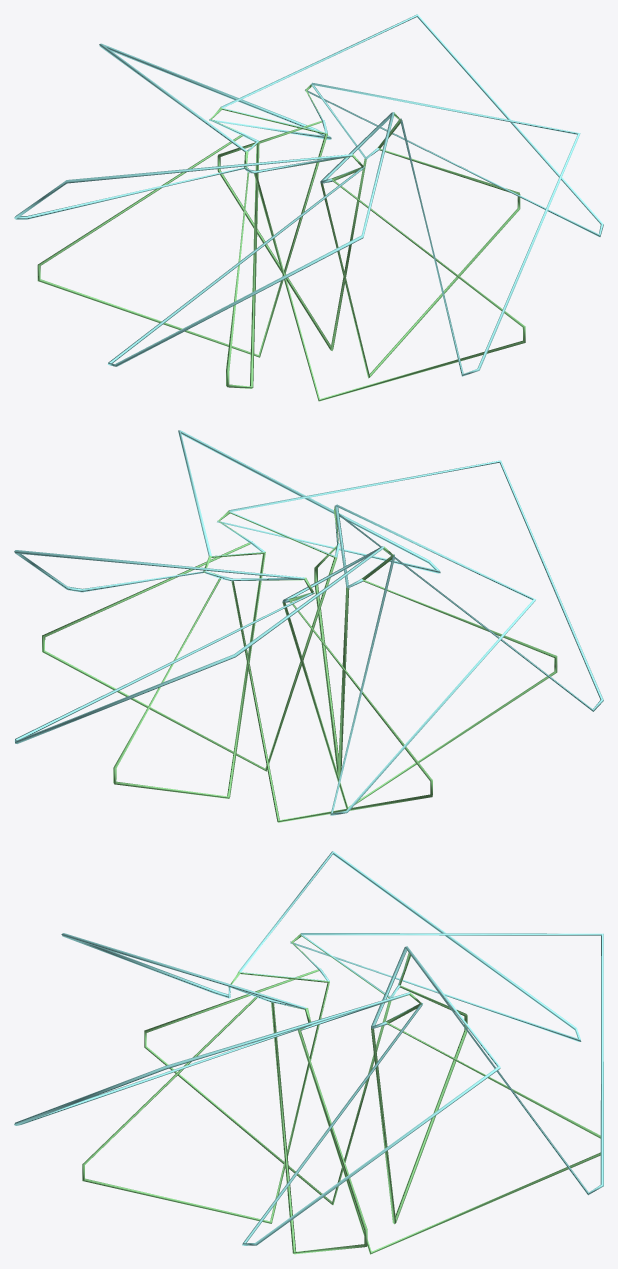
The model's file is MapF1.glb.
3 views of the same model, one above another, from view 1: azimuth 30°, elevation 25°; view 2: azimuth 150°, elevation 25°; view 3: azimuth 270°, elevation 25° (orthographic). The views are drawn at different scales.
Visible parts, largest first — view 1: RegularMap_F; view 2: RegularMap_F; view 3: RegularMap_F.
Part boxes in pixels (<box>): RegularMap_F: <box>14,14,603,401</box>; RegularMap_F: <box>14,430,603,822</box>; RegularMap_F: <box>14,851,603,1254</box>.
Size of the model in its own units: 13.16 by 6.31 by 12.81.
